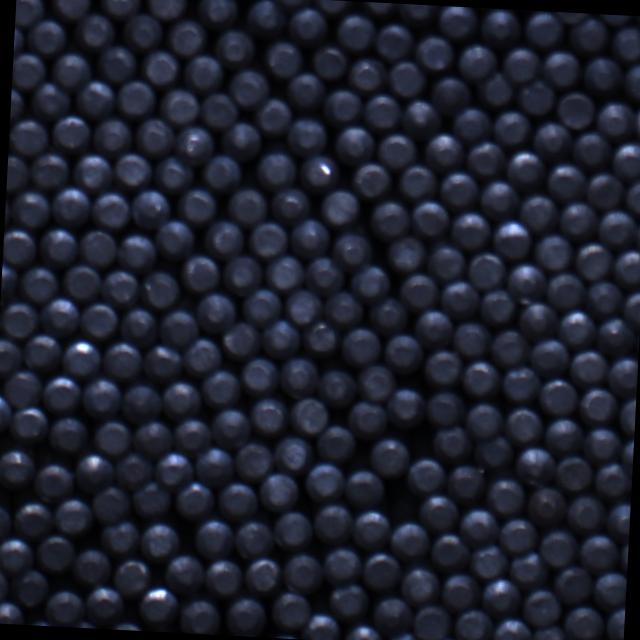tool: (195, 292, 238, 335), (140, 586, 182, 630), (278, 356, 320, 399), (122, 382, 164, 425), (37, 297, 80, 339), (51, 184, 93, 227), (210, 408, 252, 451), (81, 376, 123, 419), (194, 516, 236, 559), (258, 472, 300, 514), (12, 498, 54, 540), (369, 437, 411, 479), (222, 254, 264, 296), (134, 116, 176, 158), (384, 388, 426, 430), (304, 461, 346, 503), (314, 502, 356, 544), (289, 218, 331, 260), (224, 596, 266, 638), (579, 532, 621, 574), (336, 123, 378, 165), (73, 78, 115, 120), (42, 374, 84, 416), (155, 219, 197, 261), (320, 188, 362, 230), (258, 150, 300, 192), (390, 519, 432, 561), (516, 445, 558, 487), (370, 198, 412, 240), (546, 161, 588, 203), (431, 75, 474, 116), (36, 533, 78, 574), (283, 552, 324, 594), (238, 356, 280, 397), (216, 481, 258, 522), (352, 508, 393, 550), (193, 444, 234, 486), (400, 566, 441, 608), (222, 119, 264, 160), (202, 220, 244, 261), (528, 485, 570, 526), (74, 452, 116, 493), (534, 121, 576, 162), (424, 131, 466, 172), (460, 505, 502, 546), (374, 597, 416, 638), (154, 155, 197, 195), (260, 318, 301, 359), (130, 187, 171, 228), (323, 545, 364, 586), (288, 7, 329, 48), (60, 336, 101, 377), (164, 554, 205, 595), (115, 230, 156, 271), (560, 201, 601, 242), (432, 533, 473, 574), (519, 193, 560, 234), (481, 178, 522, 219), (240, 286, 282, 326), (290, 397, 332, 437), (214, 28, 256, 68), (338, 12, 378, 54), (228, 186, 270, 226), (458, 42, 498, 84), (158, 309, 200, 349), (363, 550, 403, 592), (36, 228, 78, 268), (584, 56, 626, 96), (508, 262, 548, 304), (272, 434, 312, 476), (508, 150, 548, 192), (328, 582, 370, 622), (33, 461, 74, 501), (78, 227, 118, 268), (50, 52, 91, 92), (272, 509, 313, 549), (286, 116, 327, 156), (344, 467, 385, 507), (168, 18, 209, 58), (173, 482, 214, 522), (233, 441, 273, 482), (175, 125, 216, 165), (384, 333, 424, 374), (342, 328, 383, 368), (494, 220, 534, 261), (598, 210, 639, 250), (140, 270, 181, 310), (349, 264, 390, 304), (452, 210, 493, 250), (492, 328, 533, 368), (162, 380, 202, 421), (544, 49, 584, 90), (120, 305, 160, 346), (446, 464, 487, 504), (401, 98, 442, 138), (598, 316, 639, 356), (227, 67, 269, 106), (140, 342, 182, 381), (130, 481, 172, 520), (332, 230, 374, 269), (270, 186, 312, 225), (557, 89, 597, 129), (374, 22, 414, 62), (348, 400, 388, 440), (116, 80, 156, 120), (22, 332, 62, 372), (182, 252, 222, 292), (104, 339, 144, 379), (141, 521, 181, 561), (574, 241, 614, 281), (182, 336, 222, 376), (442, 278, 482, 318), (248, 220, 288, 260), (124, 12, 164, 52), (306, 256, 346, 296), (186, 52, 226, 92), (250, 396, 290, 436), (10, 188, 50, 228), (540, 530, 580, 570), (222, 320, 262, 360), (412, 198, 452, 238), (568, 494, 608, 534), (407, 454, 447, 494), (201, 368, 241, 408), (558, 309, 598, 349), (442, 572, 482, 612), (585, 170, 625, 210), (524, 587, 564, 627), (299, 152, 339, 192), (72, 152, 112, 192), (100, 267, 140, 307), (402, 272, 442, 312), (441, 170, 481, 210), (74, 548, 114, 588), (532, 338, 572, 378), (574, 130, 614, 170), (505, 406, 545, 446), (414, 309, 454, 349), (486, 477, 526, 517), (484, 578, 524, 618), (19, 264, 60, 303), (63, 262, 104, 301), (202, 153, 243, 192), (324, 292, 365, 331), (378, 131, 419, 170), (178, 597, 220, 635), (176, 188, 218, 226), (246, 0, 289, 37), (266, 39, 306, 78), (8, 117, 48, 156), (91, 189, 131, 228), (386, 59, 426, 98), (115, 154, 155, 193), (76, 13, 116, 52), (266, 255, 306, 294), (548, 273, 588, 312), (53, 497, 93, 536), (518, 76, 558, 115), (318, 368, 358, 407), (387, 234, 427, 273), (510, 549, 550, 588), (114, 452, 154, 491), (302, 320, 342, 359), (272, 591, 312, 630), (114, 557, 153, 597), (286, 71, 326, 110), (420, 494, 460, 533), (87, 587, 127, 626), (370, 297, 410, 336), (536, 233, 576, 272), (462, 357, 502, 396), (434, 425, 474, 464), (27, 18, 68, 56), (153, 450, 194, 488), (160, 88, 201, 126), (29, 150, 70, 188), (555, 564, 596, 602), (93, 116, 134, 154), (452, 105, 493, 143), (522, 300, 563, 338), (524, 11, 566, 48), (480, 8, 522, 45), (3, 369, 42, 408), (52, 114, 92, 152), (500, 518, 540, 556), (234, 520, 274, 558), (80, 301, 120, 339), (90, 486, 130, 524), (12, 404, 50, 444), (98, 44, 138, 82), (50, 416, 90, 454), (28, 84, 68, 122), (316, 425, 356, 463), (452, 321, 492, 359), (356, 362, 396, 400), (352, 160, 392, 198), (350, 56, 390, 94), (584, 426, 624, 464), (541, 378, 581, 416), (416, 32, 456, 70), (134, 420, 174, 458), (400, 166, 440, 204), (503, 364, 543, 402), (594, 98, 634, 136), (326, 85, 366, 123), (466, 138, 506, 176), (570, 15, 611, 52), (0, 448, 35, 491), (563, 605, 606, 640), (469, 252, 508, 290), (202, 92, 241, 130), (465, 400, 504, 438), (11, 568, 50, 606), (206, 558, 245, 596), (363, 92, 402, 130), (95, 419, 134, 457), (545, 417, 584, 455), (493, 109, 532, 147), (414, 603, 454, 640), (426, 391, 466, 428), (578, 384, 618, 421), (470, 544, 510, 581), (102, 520, 142, 557), (0, 299, 38, 337), (502, 46, 540, 84), (246, 556, 284, 594), (571, 348, 609, 386), (586, 281, 624, 319), (555, 454, 594, 491), (174, 416, 213, 453), (428, 244, 467, 281), (255, 96, 292, 135), (282, 288, 322, 324), (46, 588, 86, 624), (596, 460, 632, 500), (424, 348, 464, 384), (437, 6, 479, 40), (144, 49, 181, 87), (479, 72, 516, 110), (482, 289, 518, 328), (12, 50, 46, 90), (476, 434, 516, 468), (313, 44, 350, 80), (2, 227, 36, 266), (0, 537, 33, 576), (595, 569, 627, 609), (608, 354, 638, 396), (456, 609, 496, 640), (610, 23, 640, 64), (198, 0, 239, 29), (612, 138, 640, 180), (303, 612, 342, 640), (614, 246, 640, 287), (607, 499, 631, 540), (494, 616, 534, 640), (7, 154, 30, 192), (0, 336, 22, 375), (400, 4, 442, 24), (100, 0, 140, 20), (0, 259, 18, 303), (15, 0, 44, 27), (51, 0, 91, 19), (146, 0, 187, 18), (343, 622, 384, 640), (605, 604, 625, 640), (358, 2, 401, 18), (620, 394, 636, 435), (624, 288, 640, 328), (624, 62, 640, 102), (0, 600, 24, 625), (313, 0, 355, 14), (533, 624, 568, 640), (620, 435, 634, 473), (10, 88, 25, 122), (626, 179, 640, 215), (596, 14, 638, 26), (106, 620, 148, 632), (0, 502, 12, 543), (0, 392, 12, 433), (553, 12, 593, 24), (386, 631, 429, 640), (13, 23, 24, 58), (273, 0, 313, 9), (25, 618, 64, 627), (0, 566, 9, 603), (67, 620, 103, 628), (634, 99, 640, 141), (430, 637, 466, 640)
